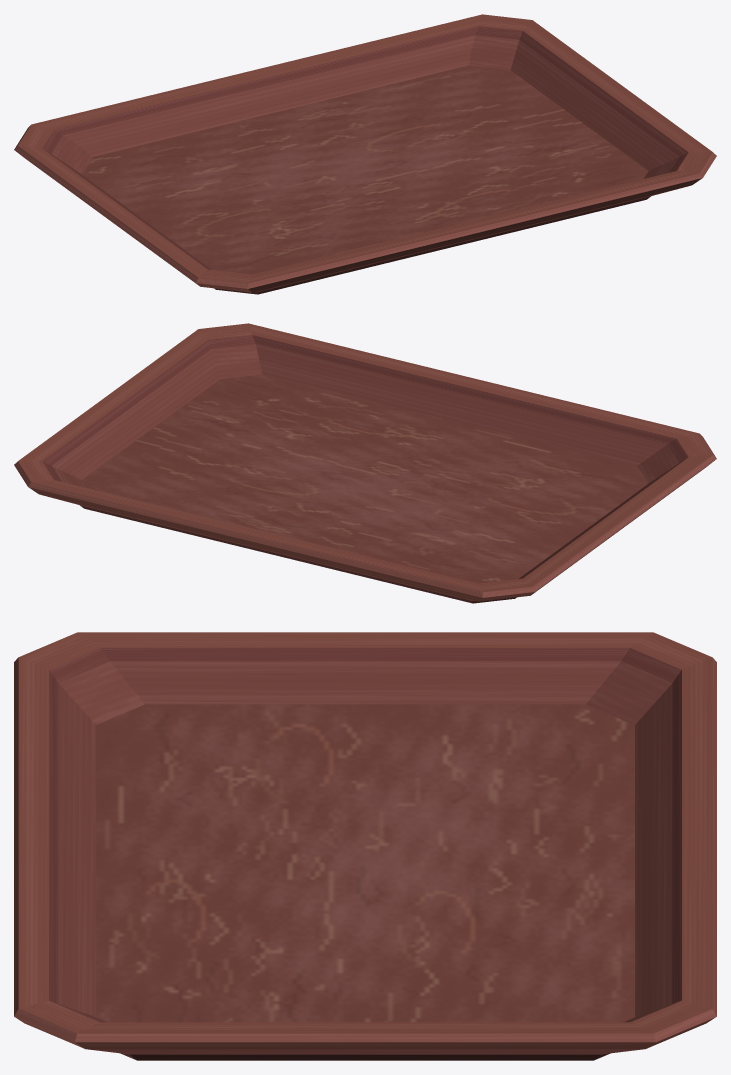
The model's file is food_court_tray.glb.
3 views of the same model, one above another, from view 1: azimuth 30°, elevation 25°; view 2: azimuth 150°, elevation 25°; view 3: azimuth 270°, elevation 25° (orthographic). The views are drawn at different scales.
Visible parts, largest first — view 1: Food-Court Tray; view 2: Food-Court Tray; view 3: Food-Court Tray.
Part boxes in pixels (box(x1,y1,x2,y2)): Food-Court Tray: box(14, 14, 716, 294); Food-Court Tray: box(14, 323, 716, 603); Food-Court Tray: box(14, 632, 716, 1060).
Size of the model in its own units: 0.41 by 0.026 by 0.3.
1 material, 1 textured.
